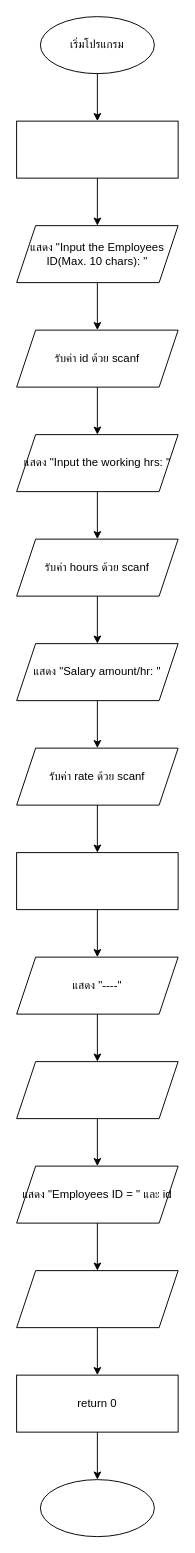
Some shapes in this 195 by 1553 pixel diagram are drawn without their labels. Here are the shapes that lost their labels. From the top down, the box of each, then its label:
(16, 120, 178, 178): ประกาศตัวแปร id[11], hours, rate, salary
(16, 852, 178, 910): คำนวณ salary = hours × rate
(16, 1061, 178, 1119): แสดง "Expected Output:"
(16, 1270, 178, 1328): แสดง "Salary = U$ " และ salary
(39, 1479, 154, 1537): จบโปรแกรม
